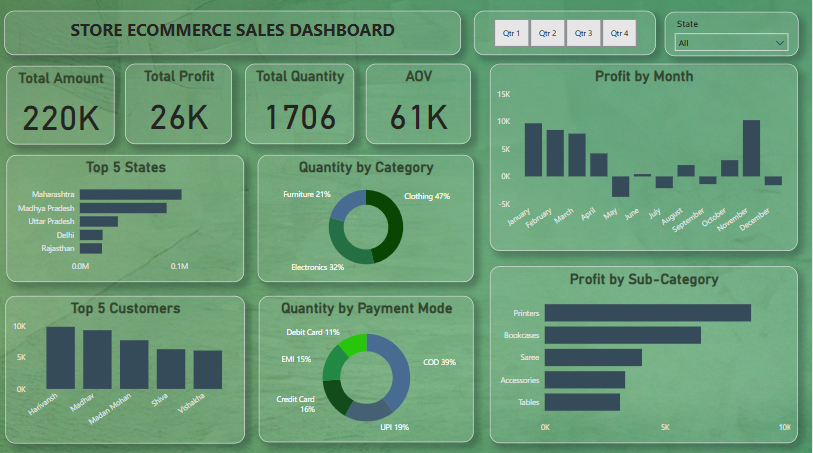

Layout of this report page (visuals, bound fields, positions):
{"tool":"powerbi","page":{"name":"Store Ecommerce Sales Dashboard","canvas":[1280,720],"ordinal":0},"visuals":[{"type":"textbox","box":[10,20,718,70],"z":0},{"type":"columnChart","title":"Profit by Month","fields":{"Category":["Orders.Order Date.Variation.Date Hierarchy.Month"],"Y":["Details.Profit"]},"box":[774,104,484,294],"z":1000},{"type":"barChart","title":"Profit by Sub-Category","fields":{"Category":["Details.Sub-Category"],"Y":["Details.Profit"]},"box":[774,422,484,278],"z":2000},{"type":"donutChart","title":"Quantity by Payment Mode","fields":{"Y":["Details.Quantity"],"Category":["Details.PaymentMode"]},"box":[410,468,338,230],"z":3000},{"type":"donutChart","title":"Quantity by Category","fields":{"Category":["Details.Category"],"Y":["Details.Quantity"]},"box":[408,246,340,200],"z":4000},{"type":"card","title":"Total Amount","fields":{"Values":["Details.Amount"]},"box":[13.3,106.7,170,123.3],"z":5000},{"type":"card","title":"Total Profit","fields":{"Values":["Details.Profit"]},"box":[200,103.3,168.3,126.7],"z":6000},{"type":"card","title":"Total Quantity ","fields":{"Values":["Details.Quantity"]},"box":[388.3,103.3,171.7,126.7],"z":7000},{"type":"card","title":"AOV","fields":{"Values":["Details.AOV"]},"box":[578.3,103.3,165,126.7],"z":8000},{"type":"barChart","title":"Top 5 States","fields":{"Category":["Orders.State"],"Y":["Details.Amount"]},"box":[14,246,374,200],"z":9000},{"type":"columnChart","title":"Top 5 Customers","fields":{"Category":["Orders.CustomerName"],"Y":["Details.Amount"]},"box":[12,468,376,232],"z":9001},{"type":"slicer","title":"Sum of Quantity by Category","fields":{"Values":["Orders.Order Date.Variation.Date Hierarchy.Quarter"]},"box":[748,20,286,70],"z":9002},{"type":"slicer","title":"Sum of Quantity by Category","fields":{"Values":["Orders.State"]},"box":[1048,22,210,70],"z":9003}]}

Visuals, with their boxes in screenshot pixels (x1, y1, x2, y2), scaled from the page's 1280x720 canvas onto the 813x453 screenshot:
textbox: <bbox>6, 13, 462, 57</bbox>
"Profit by Month" columnChart: <bbox>492, 65, 799, 250</bbox>
"Profit by Sub-Category" barChart: <bbox>492, 266, 799, 440</bbox>
"Quantity by Payment Mode" donutChart: <bbox>260, 294, 475, 439</bbox>
"Quantity by Category" donutChart: <bbox>259, 155, 475, 281</bbox>
"Total Amount" card: <bbox>8, 67, 116, 145</bbox>
"Total Profit" card: <bbox>127, 65, 234, 145</bbox>
"Total Quantity " card: <bbox>247, 65, 356, 145</bbox>
"AOV" card: <bbox>367, 65, 472, 145</bbox>
"Top 5 States" barChart: <bbox>9, 155, 246, 281</bbox>
"Top 5 Customers" columnChart: <bbox>8, 294, 246, 440</bbox>
"Sum of Quantity by Category" slicer: <bbox>475, 13, 657, 57</bbox>
"Sum of Quantity by Category" slicer: <bbox>666, 14, 799, 58</bbox>
